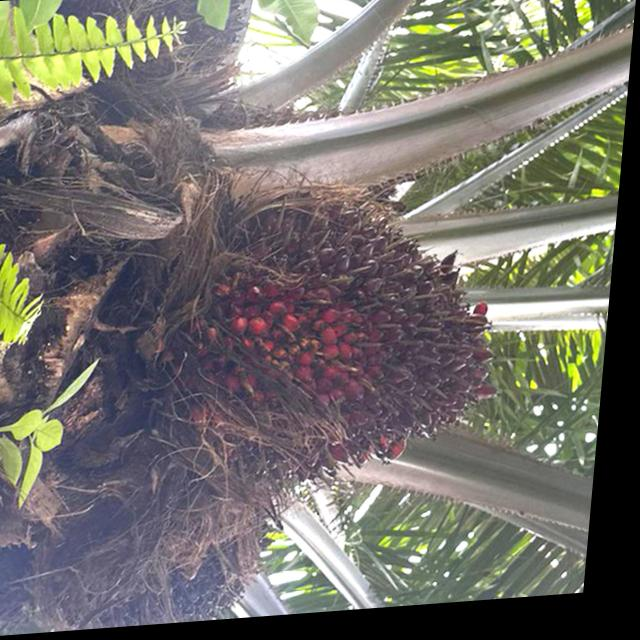ripe: (155, 152, 547, 536)
